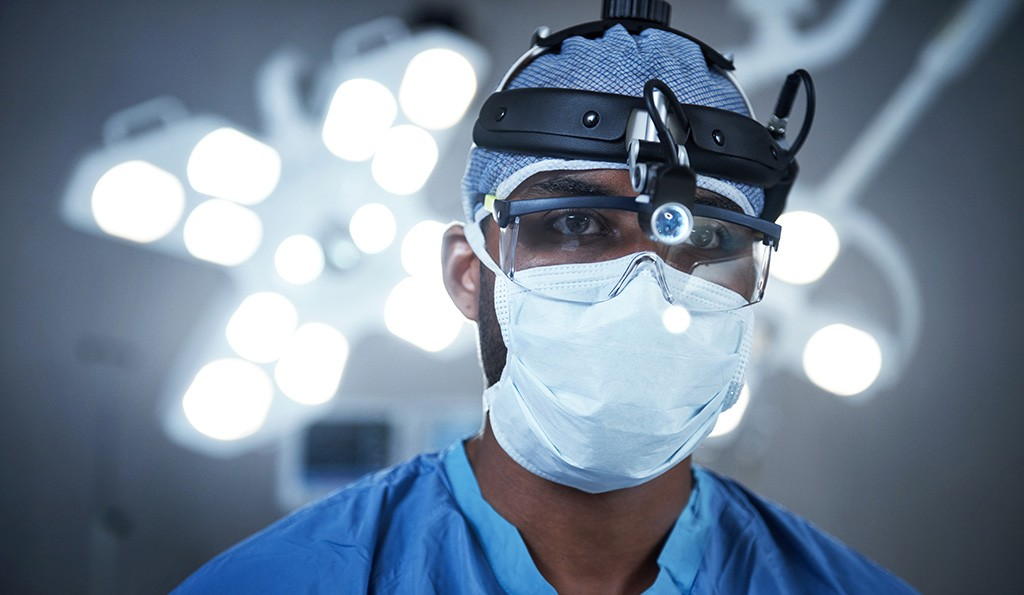Goggles: (478, 184, 781, 314)
with_mask: (484, 202, 761, 500)
